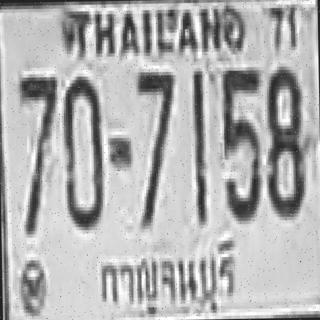N00: (61, 73, 103, 227)
N01: (191, 68, 206, 221)
N05: (221, 67, 261, 218)
N07: (16, 74, 58, 231), (134, 68, 174, 226), (17, 74, 59, 179)
N08: (264, 63, 302, 214)
P17: (95, 238, 241, 320)
